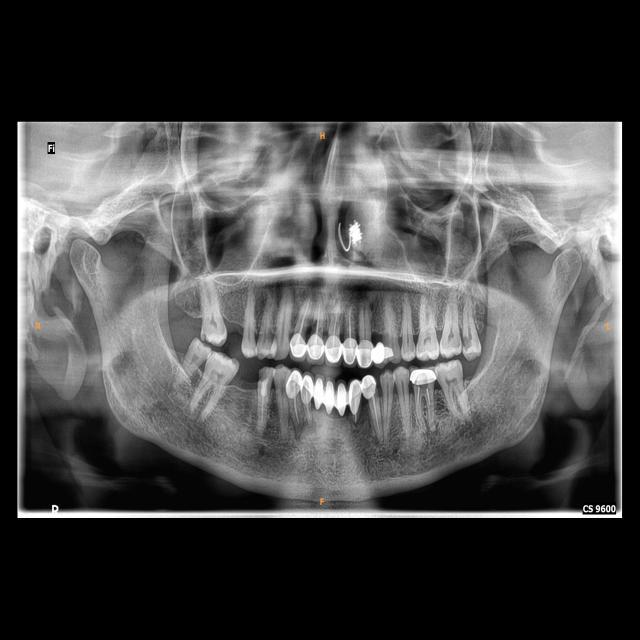dentin-curugu: (256, 365, 269, 383), (462, 334, 474, 353)
kanal-tedavisi: (296, 298, 310, 336), (415, 388, 432, 417), (369, 402, 384, 434), (289, 400, 303, 429), (344, 304, 356, 336), (313, 304, 323, 338), (330, 306, 340, 340)
kaplama: (410, 364, 436, 386), (283, 369, 301, 397), (356, 342, 374, 368), (326, 336, 342, 363), (308, 336, 326, 359), (291, 335, 308, 359), (343, 336, 357, 363), (350, 377, 360, 414), (301, 376, 314, 404), (360, 377, 376, 396)
kopru: (307, 376, 351, 419), (364, 334, 393, 364)
